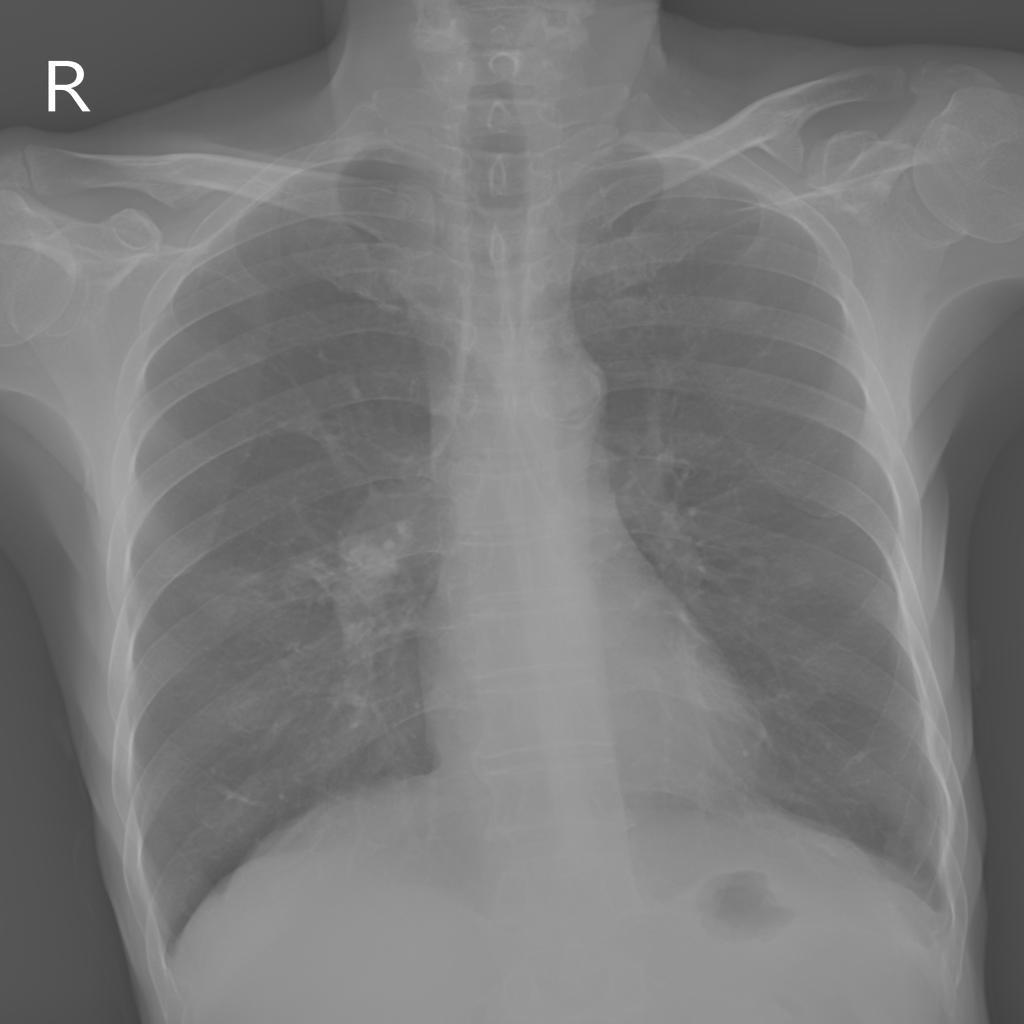Nodule: (197, 568, 263, 624), (732, 299, 761, 326)
